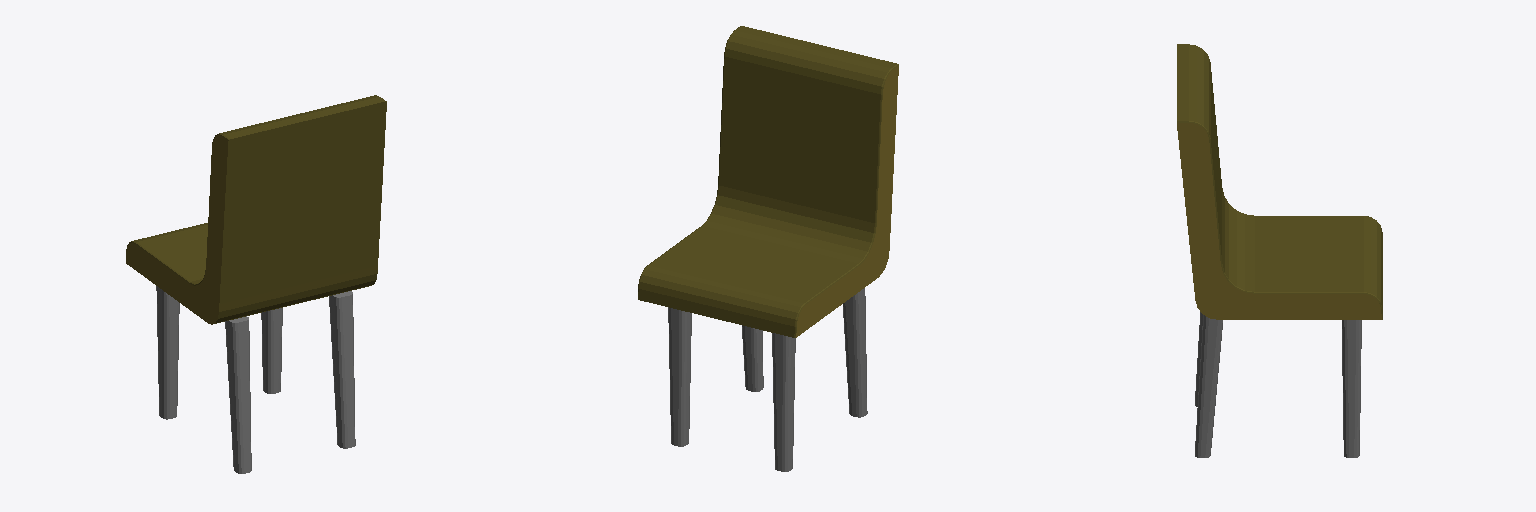
File: Chair_texture.obj
3 views of the same model, side by side, from view 1: azimuth 30°, elevation 25°; view 2: azimuth 150°, elevation 25°; view 3: azimuth 270°, elevation 25° (orthographic).
Visible parts, largest first — view 1: Chair01 ChairSeat, Chair01 BackleftChairLeg, Chair01 BackRightChairLeg, FrontLeftChairLeg Chair01, Chair01 FrontRightChairLeg; view 2: Chair01 ChairSeat, FrontLeftChairLeg Chair01, Chair01 FrontRightChairLeg, Chair01 BackleftChairLeg, Chair01 BackRightChairLeg; view 3: Chair01 ChairSeat, Chair01 BackRightChairLeg, Chair01 FrontRightChairLeg.
Part boxes in pixels (bbox=[...]): Chair01 ChairSeat: bbox=[126, 95, 386, 324]; Chair01 BackleftChairLeg: bbox=[225, 316, 251, 473]; Chair01 BackRightChairLeg: bbox=[329, 291, 355, 448]; FrontLeftChairLeg Chair01: bbox=[156, 286, 179, 419]; Chair01 FrontRightChairLeg: bbox=[261, 308, 282, 393]; Chair01 ChairSeat: bbox=[638, 26, 898, 337]; FrontLeftChairLeg Chair01: bbox=[772, 333, 795, 471]; Chair01 FrontRightChairLeg: bbox=[668, 307, 691, 446]; Chair01 BackleftChairLeg: bbox=[843, 288, 867, 417]; Chair01 BackRightChairLeg: bbox=[742, 325, 763, 391]; Chair01 ChairSeat: bbox=[1177, 44, 1382, 319]; Chair01 BackRightChairLeg: bbox=[1195, 315, 1222, 457]; Chair01 FrontRightChairLeg: bbox=[1342, 320, 1361, 457].
Bounding box in the file's own units: 1.04 × 2.17 × 1.17.